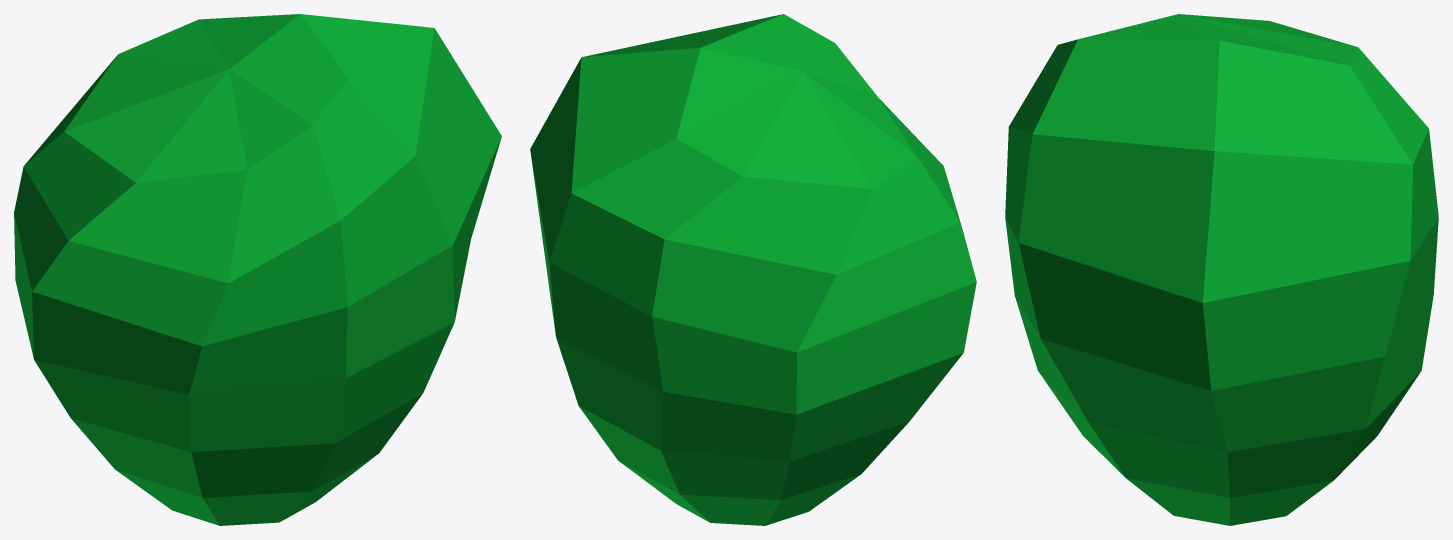
The model's file is bush.glb.
The picture shows the model from 3 angles, left to right: view 1: azimuth 30°, elevation 25°; view 2: azimuth 150°, elevation 25°; view 3: azimuth 270°, elevation 25°; orthographic projection. The views are drawn at different scales.
Parts seen in each view (by area): view 1: bush_lod0; view 2: bush_lod0; view 3: bush_lod0.
Part boxes in pixels (x1,y1,x2,y2): bush_lod0: (14, 14, 501, 525); bush_lod0: (530, 14, 976, 525); bush_lod0: (1005, 14, 1438, 525).
Size of what is drawn, in the model's own units: 1.72 by 1.7 by 1.33.
